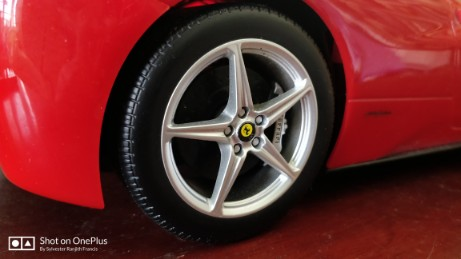aligned_wheel: (113, 1, 336, 243)
